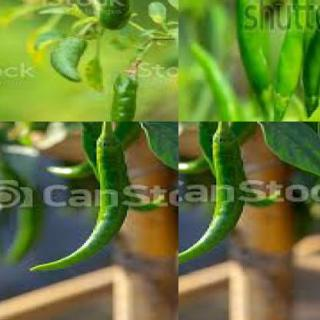green_chilli: (29, 135, 129, 273), (178, 131, 246, 268), (46, 122, 165, 176), (178, 122, 281, 172), (224, 0, 272, 92), (188, 41, 242, 121), (274, 0, 316, 98), (45, 33, 84, 85), (106, 68, 144, 121), (87, 0, 137, 35), (301, 27, 319, 114), (80, 122, 104, 182), (196, 121, 220, 177)
